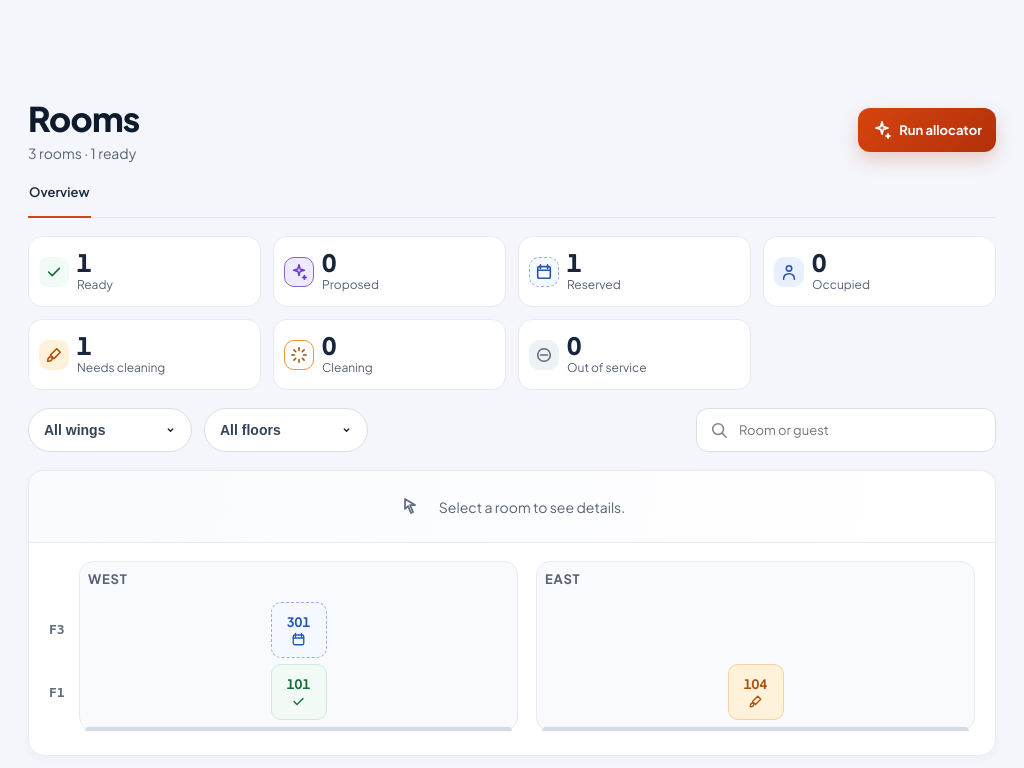
RoomsScreen › says so when every guest already has a room
Check: the text "3 rooms · 1 ready" is shown, box left=28, top=142, right=140, bottom=162
Step 1. Click the button "Run allocator" → (927, 130), box left=858, top=108, right=996, bottom=152
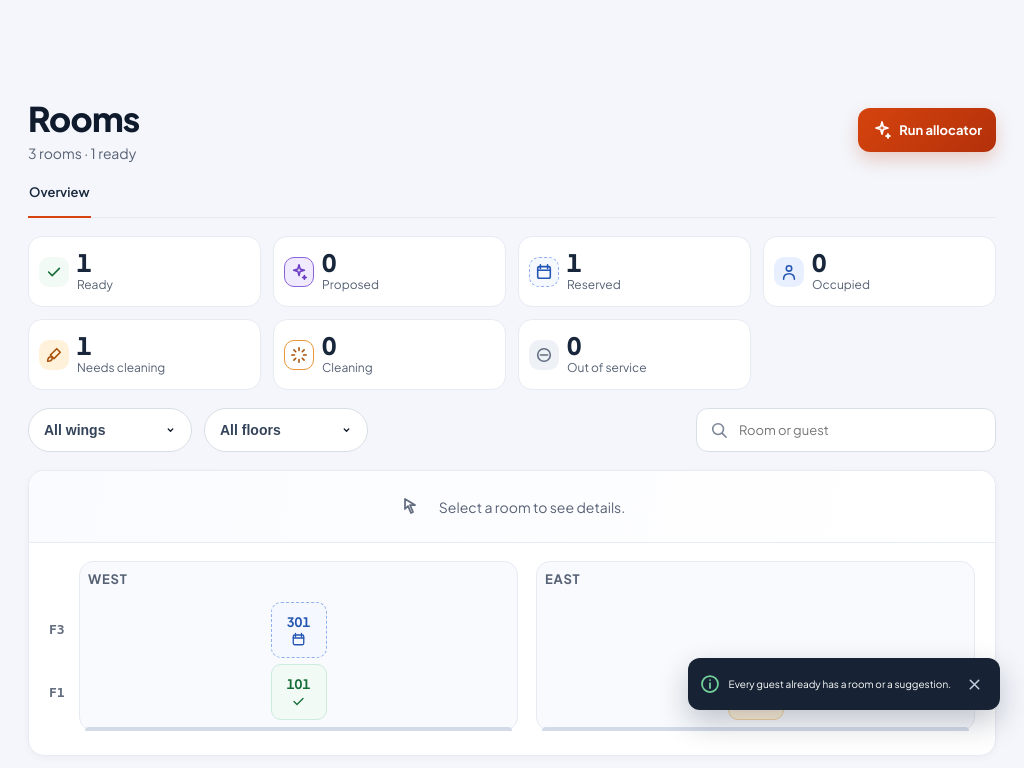
Check: the text "Every guest already has a room or a suggestion." is shown, box left=729, top=674, right=951, bottom=694
